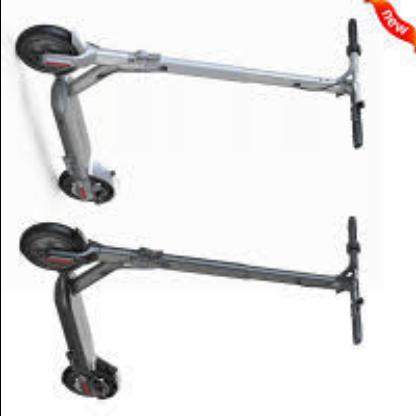bike: (15, 17, 401, 404), (16, 19, 368, 204)
